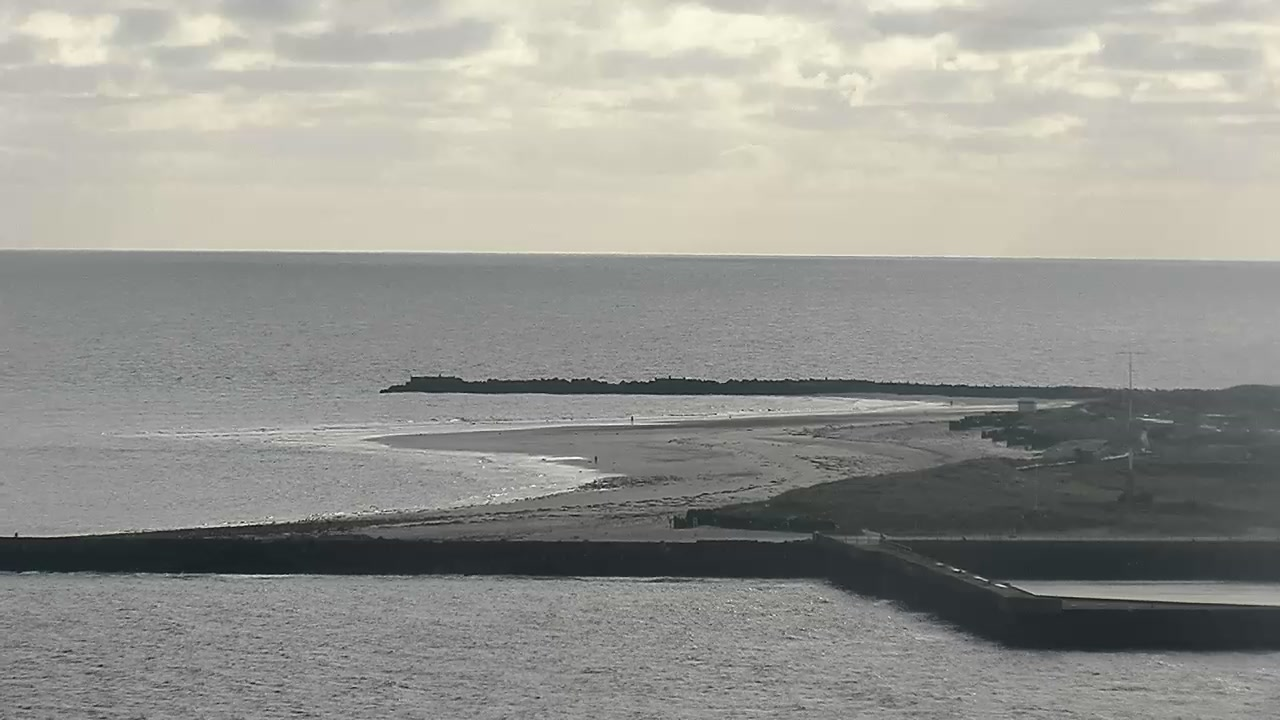human: (630, 414, 634, 425), (594, 455, 597, 463), (950, 400, 953, 406)
